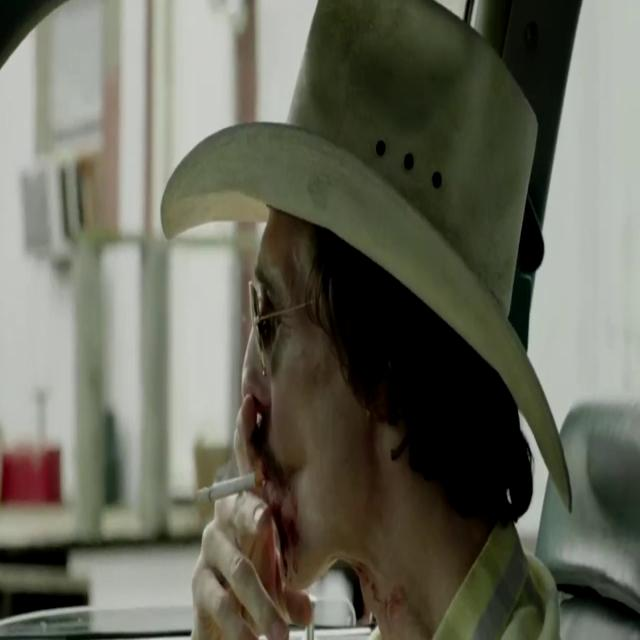Smooking: (187, 473, 267, 514)
